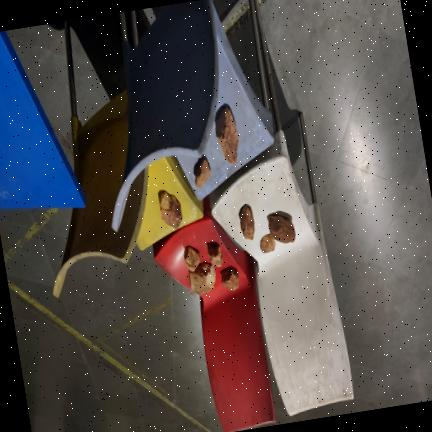Rocks: (215, 107, 237, 164), (188, 261, 215, 294), (159, 191, 181, 228), (268, 214, 294, 242), (238, 204, 253, 239), (194, 157, 210, 186), (221, 266, 238, 290), (183, 246, 199, 270), (206, 242, 221, 266), (259, 233, 274, 252)
